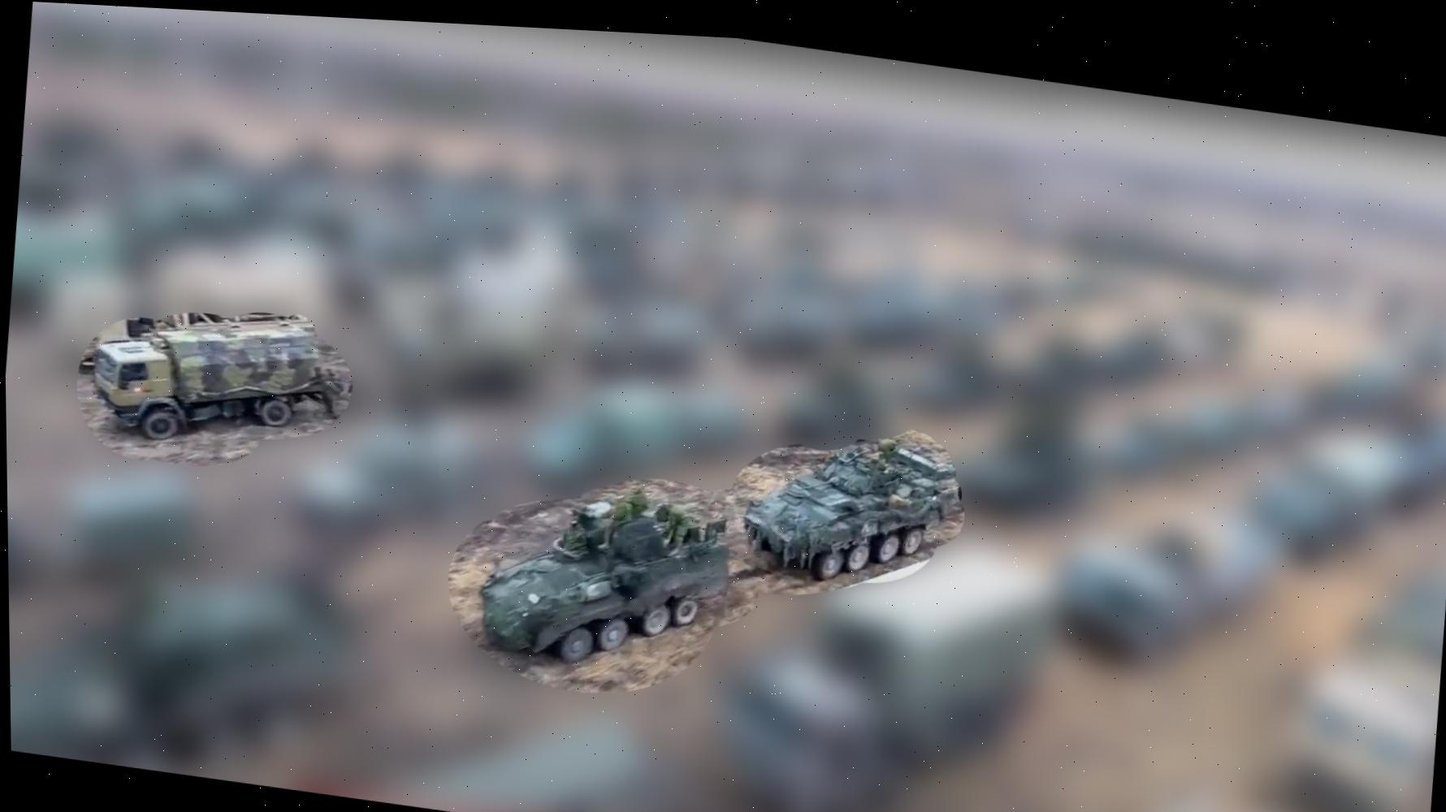armored_car: (470, 470, 733, 686), (739, 418, 967, 597)
truck: (81, 287, 327, 462)
